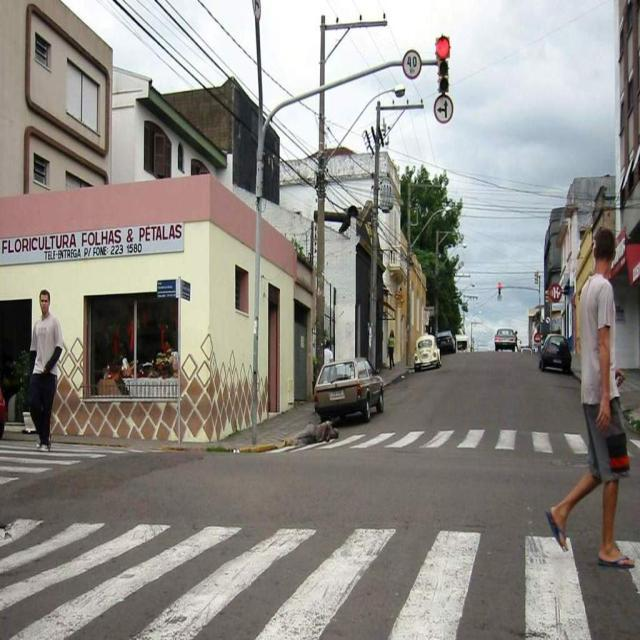traffic light: (436, 35, 452, 95)
